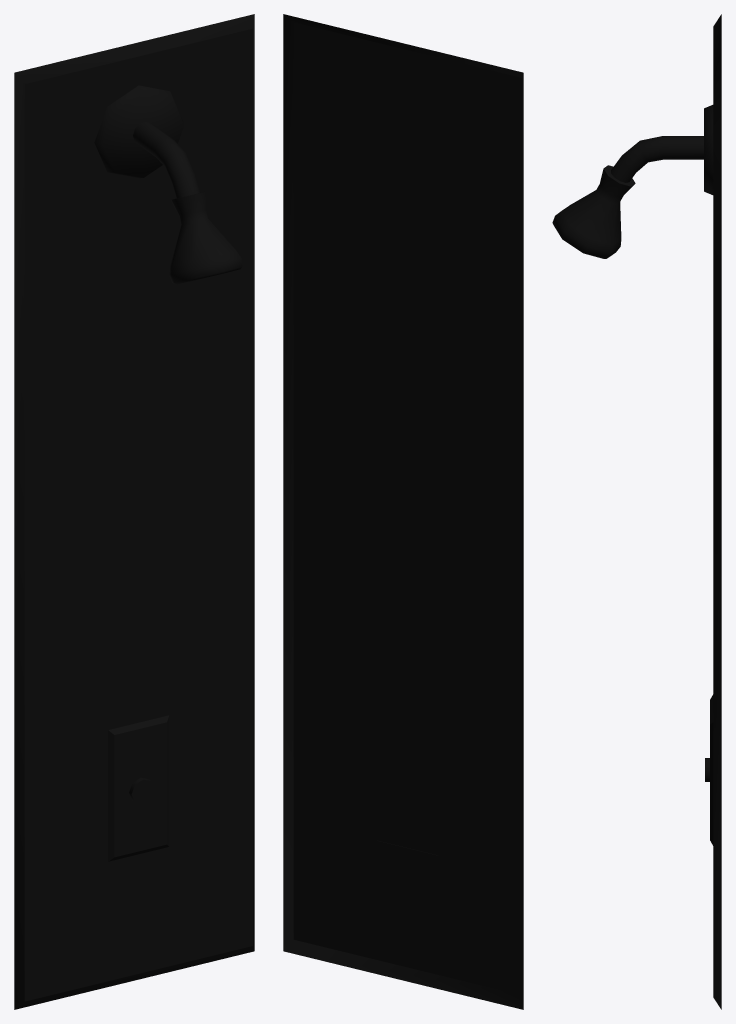
Rendered from Shower_Asset.fbx.
3 renders of one model, left to right at view 1: azimuth 30°, elevation 25°; view 2: azimuth 150°, elevation 25°; view 3: azimuth 270°, elevation 25°, orthographic. The views are drawn at different scales.
Parts seen in each view (by area): view 1: Shower; view 2: Shower; view 3: Shower.
Part boxes in pixels (<box>): Shower: <box>14,14,254,1009</box>; Shower: <box>283,14,523,1009</box>; Shower: <box>552,14,721,1009</box>.
Bounding box in the file's own units: 33.77 × 21.78 × 126.
